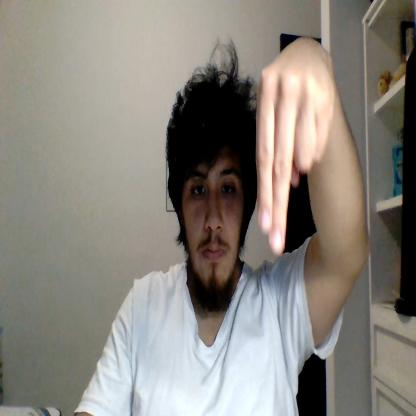N: (257, 37, 335, 254)
